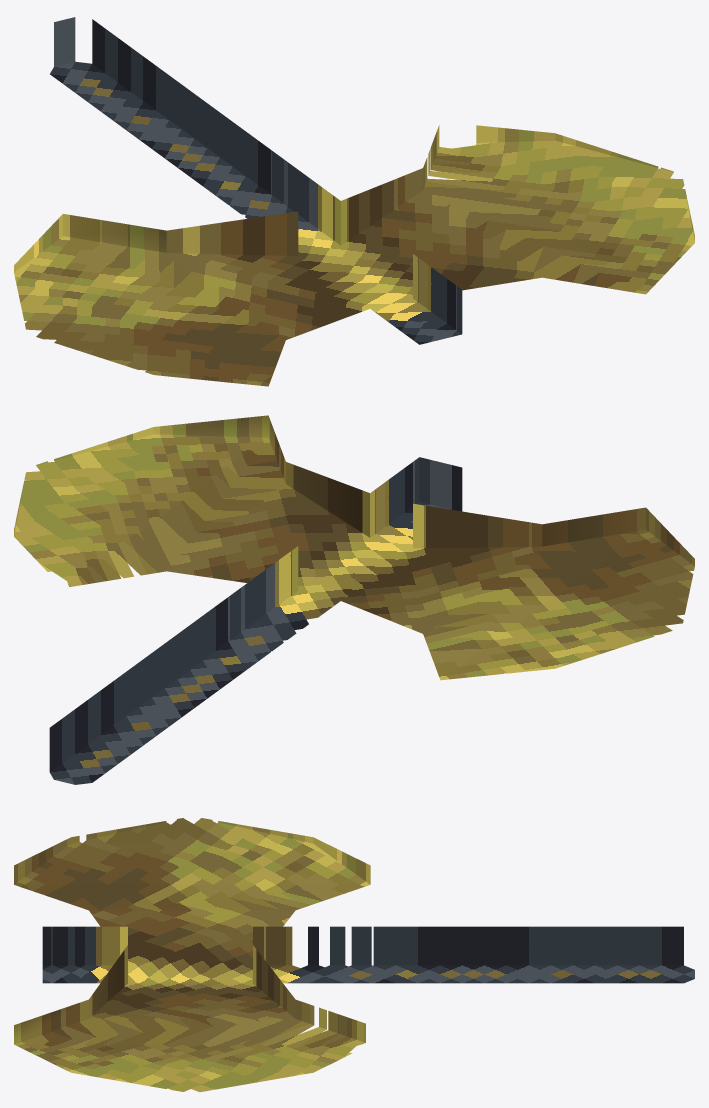
Rendered from axe.glb.
The picture shows the model from 3 angles, top to bottom: view 1: azimuth 30°, elevation 25°; view 2: azimuth 150°, elevation 25°; view 3: azimuth 270°, elevation 25°; orthographic projection. The views are drawn at different scales.
Visible parts, largest first — view 1: object_000; view 2: object_000; view 3: object_000.
Boxes of the visible parts, x1,y1,x2,y2 form: object_000: (14, 17, 694, 386); object_000: (14, 415, 694, 784); object_000: (14, 818, 694, 1092).
Size of the model in its own units: 368 by 24 by 382.
Materials: 1 (1 with a texture image).
